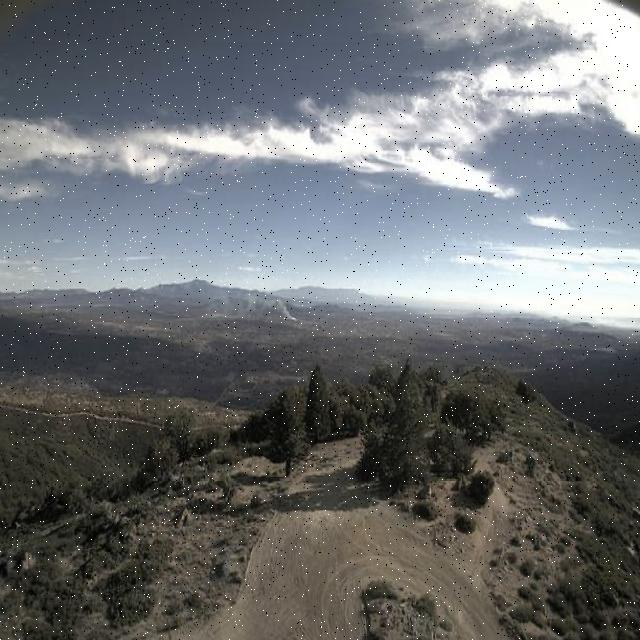smoke: (206, 284, 304, 326)
